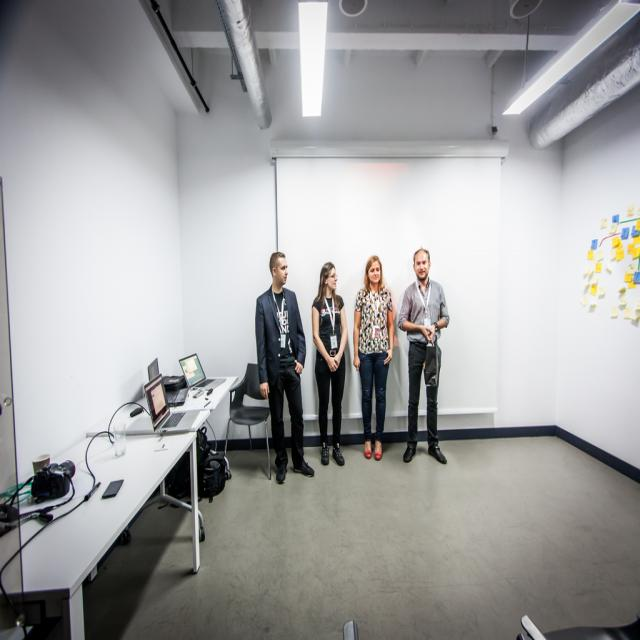chair: (224, 362, 272, 479)
desk: (0, 434, 196, 640)
laptop: (143, 369, 199, 432), (178, 352, 225, 393)
person: (255, 251, 316, 480), (396, 248, 451, 465), (351, 255, 396, 463), (312, 262, 349, 468)
